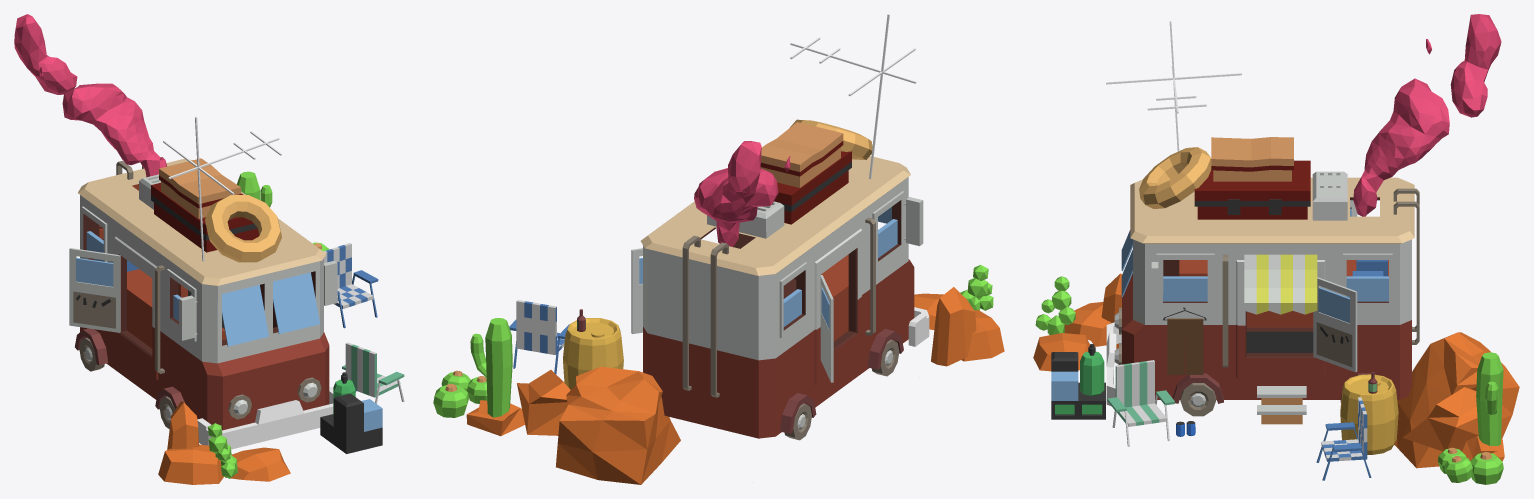
File: object_car_house.glb
3 views of the same model, side by side, from view 1: azimuth 30°, elevation 25°; view 2: azimuth 150°, elevation 25°; view 3: azimuth 270°, elevation 25° (orthographic). The views are drawn at different scales.
Visible parts, largest first — view 1: Cube.001, Mball.007, Cube.008, Torus, Cube.013, Cube.003, Cube.007, Cube.006, Cube.012, Cube.010, Cube.004, Cube.009 (+4 smaller); view 2: Cube.001, Cube.008, Mball.007, Cylinder.001, Cube.007, Cube.011, Cylinder, Cube.004, Cube.006, Cube.012, Cube.005, Cube.009 (+3 smaller); view 3: Cube.001, Cube.008, Mball.007, Cube.002, Cube.006, Cylinder.001, Cube.012, Cube.013, Cube.007, Cylinder, Cube.010, Torus (+7 smaller).
Boxes of the visible parts, x1,y1,x2,y2 form: Cube.001: [69, 159, 337, 430]; Mball.007: [14, 14, 167, 177]; Cube.008: [158, 401, 290, 484]; Torus: [205, 195, 281, 262]; Cube.013: [320, 372, 382, 453]; Cube.003: [197, 387, 333, 449]; Cube.007: [159, 158, 240, 218]; Cube.006: [151, 182, 259, 252]; Cube.012: [98, 184, 226, 348]; Cube.010: [342, 342, 404, 403]; Cube.004: [324, 243, 378, 328]; Cube.009: [163, 116, 281, 261]; Cube.001: [631, 156, 923, 440]; Cube.008: [466, 287, 1004, 484]; Mball.007: [694, 141, 790, 246]; Cylinder.001: [433, 318, 512, 417]; Cube.007: [760, 122, 843, 187]; Cube.011: [682, 217, 875, 397]; Cylinder: [563, 318, 623, 389]; Cube.004: [509, 300, 569, 374]; Cube.006: [774, 151, 851, 224]; Cube.012: [821, 254, 848, 341]; Cube.005: [780, 329, 903, 433]; Cube.009: [790, 14, 916, 179]; Cube.001: [1114, 171, 1414, 416]; Cube.008: [1033, 273, 1519, 468]; Mball.007: [1353, 14, 1501, 216]; Cube.002: [1244, 254, 1317, 424]; Cube.006: [1194, 160, 1310, 219]; Cylinder.001: [1438, 352, 1503, 484]; Cube.012: [1179, 260, 1388, 352]; Cube.013: [1051, 344, 1105, 419]; Cube.007: [1211, 137, 1293, 181]; Cylinder: [1340, 374, 1398, 454]; Cube.010: [1107, 360, 1174, 446]; Torus: [1139, 147, 1211, 208].
Size of the model in its own units: 4.7 by 4.57 by 5.58.
